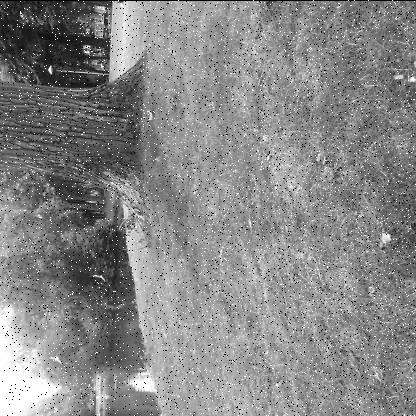metal: (146, 109, 154, 119)
